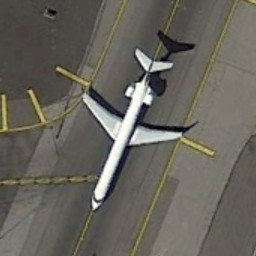Airplane: (73, 39, 194, 218)
